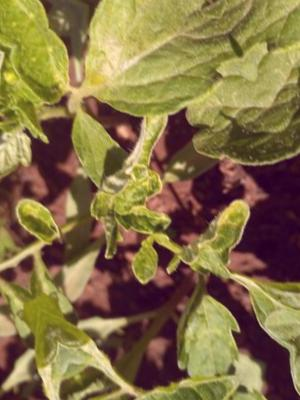Tomato leaf mosaic virus: (56, 0, 244, 146), (57, 109, 217, 264), (147, 268, 263, 397), (150, 185, 281, 293), (51, 95, 159, 211), (5, 25, 95, 117), (1, 182, 75, 259), (0, 117, 44, 195), (0, 57, 22, 134)
